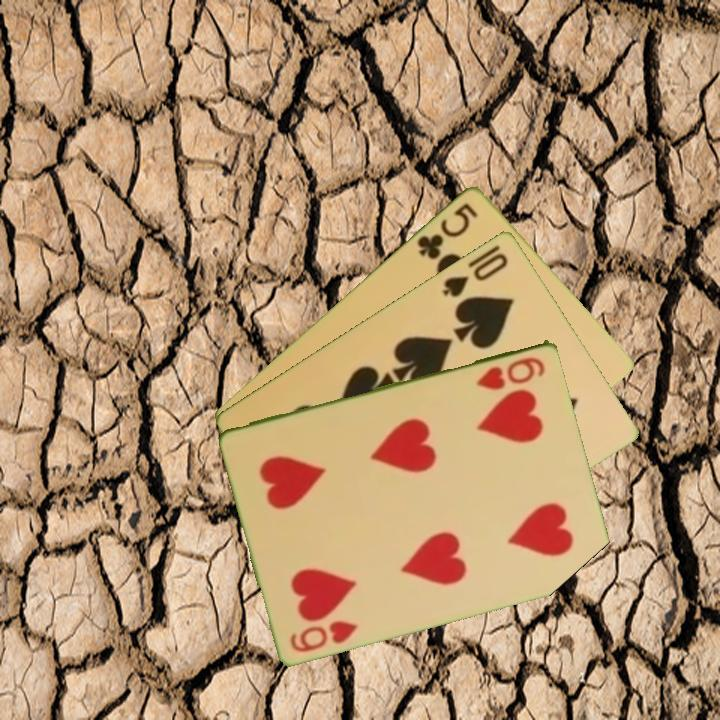10s: (438, 248, 511, 300)
5c: (413, 198, 481, 262)
6h: (473, 353, 549, 392), (286, 616, 361, 655)
